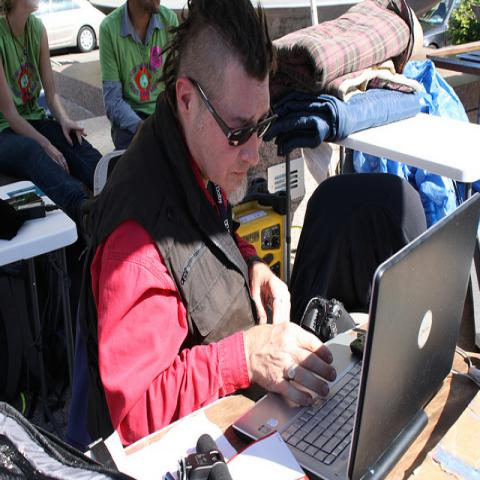car: (32, 0, 107, 53), (417, 1, 462, 48)
